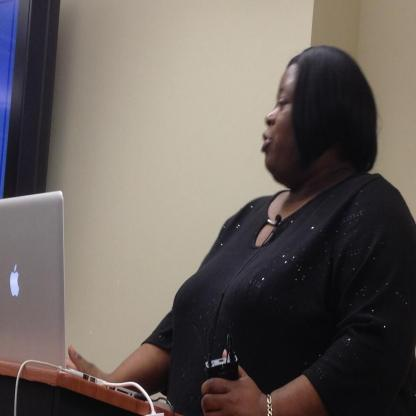board: (0, 190, 145, 402)
